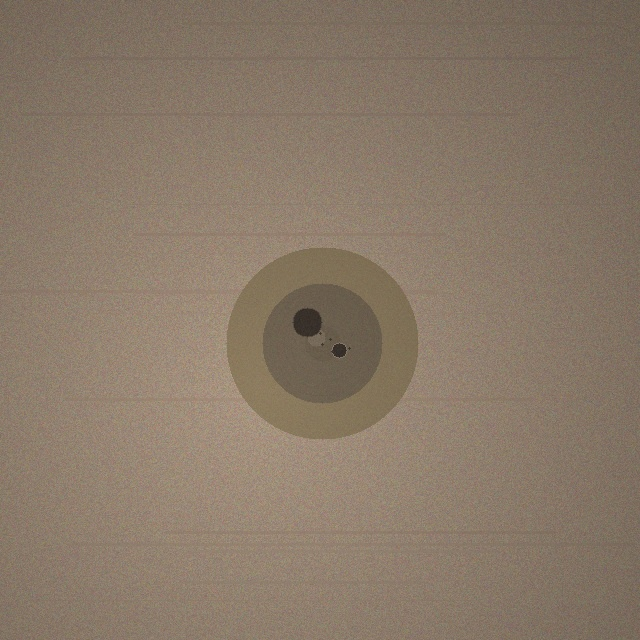shrinkage: (226, 247, 418, 439)
